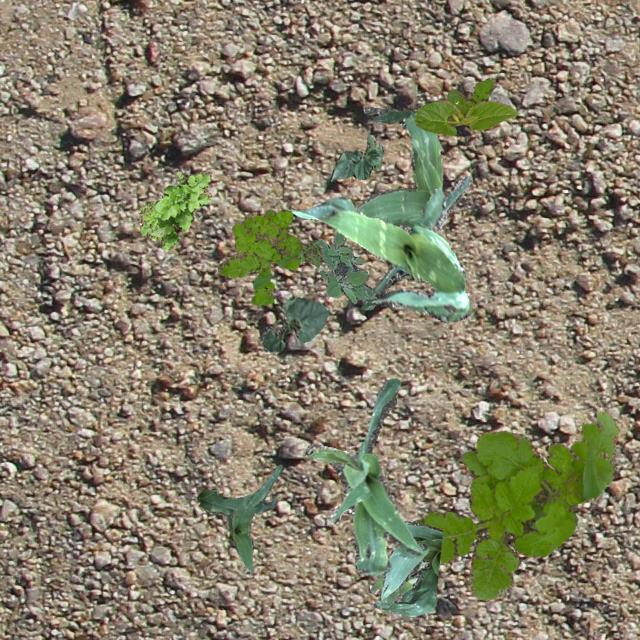crop: (290, 186, 470, 322), (303, 376, 422, 574), (356, 105, 471, 308), (195, 463, 282, 572), (372, 520, 442, 616), (258, 296, 328, 352), (414, 98, 518, 134), (330, 134, 382, 180)
weed: (412, 410, 618, 600), (216, 208, 302, 304), (138, 170, 210, 248), (316, 230, 380, 302), (369, 544, 425, 612), (446, 78, 494, 114), (294, 240, 324, 266)
